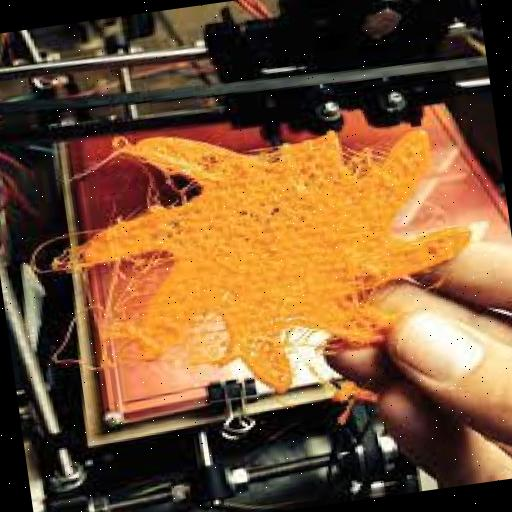spaghetti: (6, 83, 476, 439)
